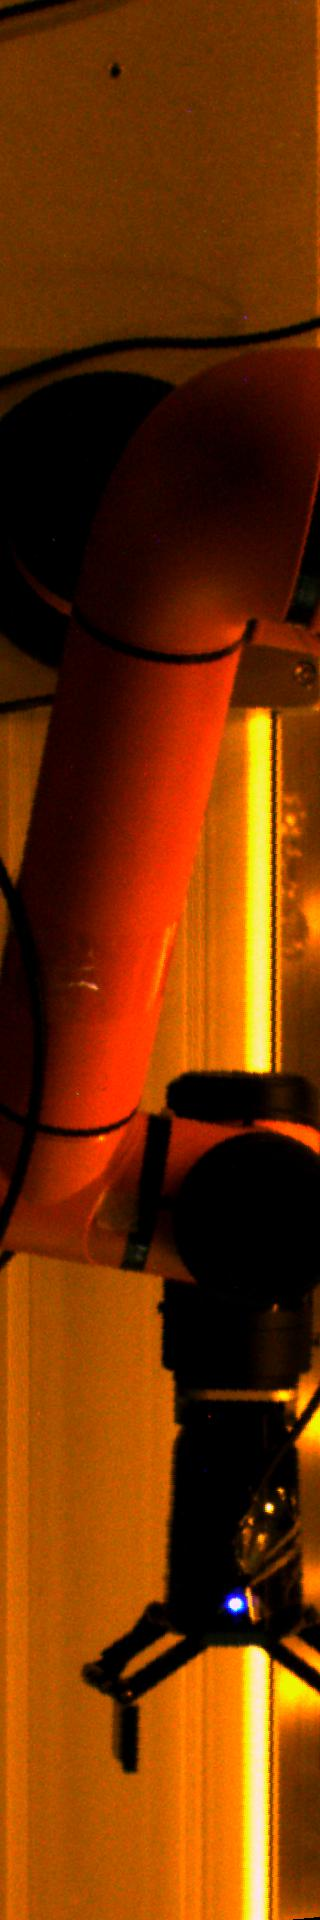keyPoint_1: (219, 1586, 250, 1616)
keyPoint_2: (99, 56, 129, 86)
